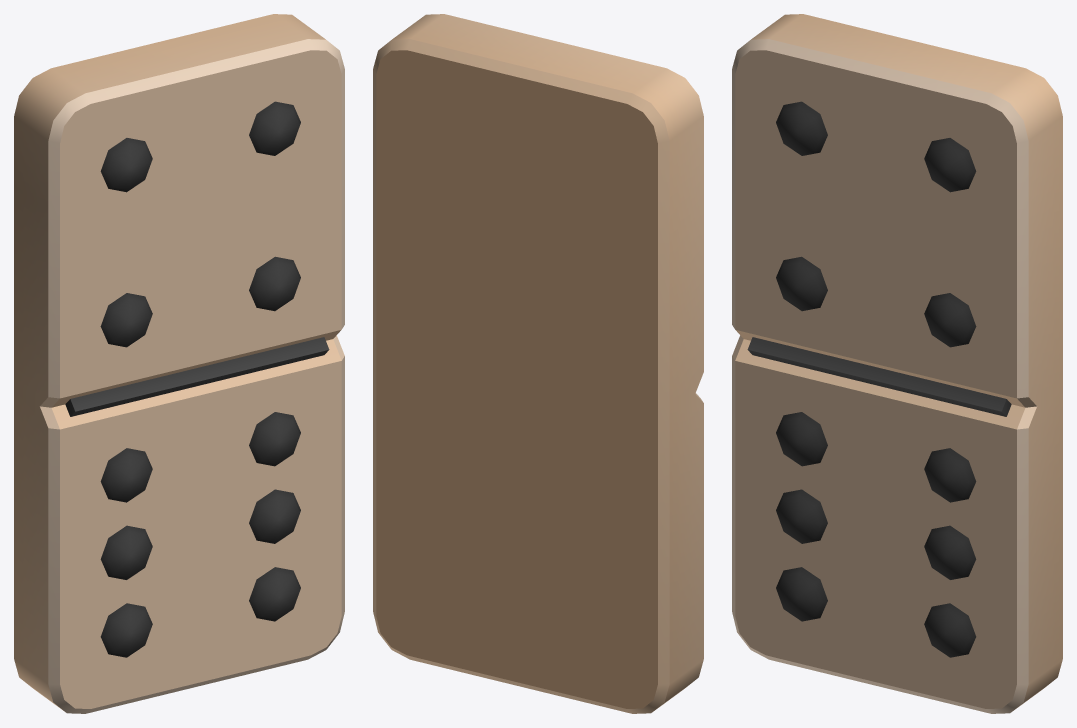
File: KFB_Domino_4-6.r1.glb
The picture shows the model from 3 angles, left to right: view 1: azimuth 30°, elevation 25°; view 2: azimuth 150°, elevation 25°; view 3: azimuth 330°, elevation 25°; orthographic projection.
Visible parts, largest first — view 1: KFB_Domino_4-6; view 2: KFB_Domino_4-6; view 3: KFB_Domino_4-6.
Part boxes in pixels (x1,y1,x2,y2): KFB_Domino_4-6: (14, 14, 344, 713); KFB_Domino_4-6: (373, 14, 703, 713); KFB_Domino_4-6: (732, 14, 1062, 713).
Bounding box in the file's own units: 2.44 × 4.87 × 0.6739.
1 material, 1 textured.
